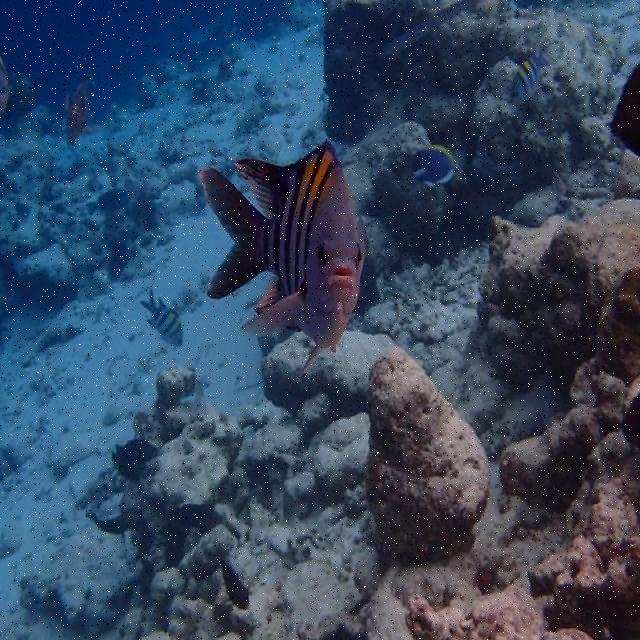fish: (198, 140, 371, 383), (138, 286, 185, 350), (64, 73, 95, 148), (410, 144, 458, 191), (510, 49, 546, 109)
sea-floor: (343, 149, 639, 639)
